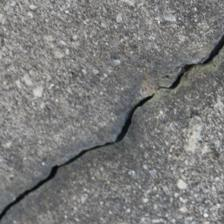Crack: (86, 33, 208, 91), (21, 89, 130, 135)
